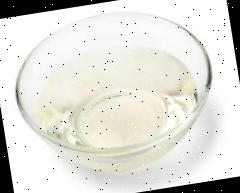glass: (5, 2, 225, 190)
